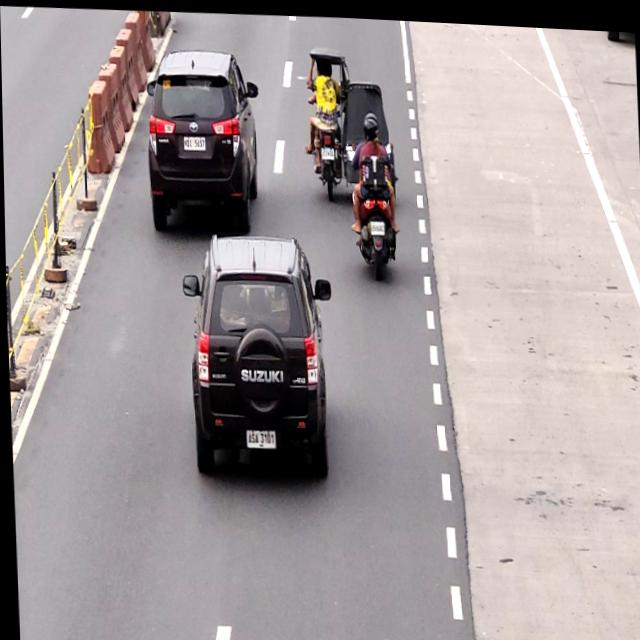Car: (188, 228, 328, 482), (140, 43, 254, 232)
License-Plate: (243, 419, 276, 450), (182, 132, 206, 151), (369, 216, 385, 232), (320, 143, 335, 158)
Motorcycle: (357, 110, 396, 274)
Tricycle: (309, 42, 386, 192)
